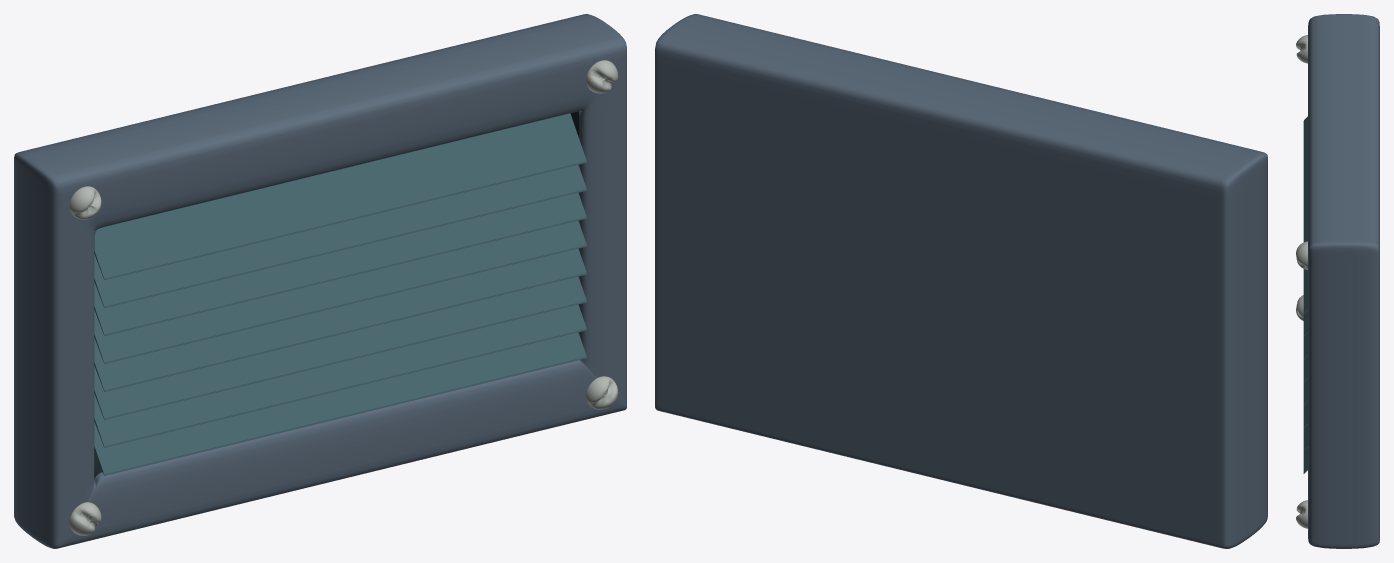
The model's file is havalandırma.fbx.
3 views of the same model, side by side, from view 1: azimuth 30°, elevation 25°; view 2: azimuth 150°, elevation 25°; view 3: azimuth 270°, elevation 25° (orthographic). The views are drawn at different scales.
Visible parts, largest first — view 1: Cube, Plane.007, Sphere.001, Sphere; view 2: Cube; view 3: Cube, Plane.007, Sphere, Sphere.001.
Part boxes in pixels (x1=…): Cube: x1=14, y1=14, x2=626, y2=548; Plane.007: x1=94, y1=113, x2=586, y2=475; Sphere.001: x1=69, y1=376, x2=618, y2=535; Sphere: x1=69, y1=60, x2=618, y2=219; Cube: x1=655, y1=14, x2=1267, y2=548; Cube: x1=1308, y1=14, x2=1379, y2=548; Plane.007: x1=1303, y1=116, x2=1307, y2=473; Sphere: x1=1296, y1=35, x2=1307, y2=269; Sphere.001: x1=1296, y1=295, x2=1307, y2=528.
Size of the model in its own units: 240 by 148 by 36.73.
